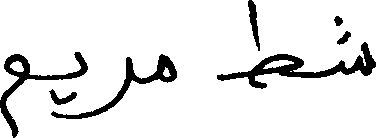ر: (86, 55, 134, 118)
ش: (331, 14, 374, 75)
ط: (216, 0, 303, 90)
م: (0, 52, 31, 136), (157, 52, 177, 83)
ي: (48, 50, 87, 107)
